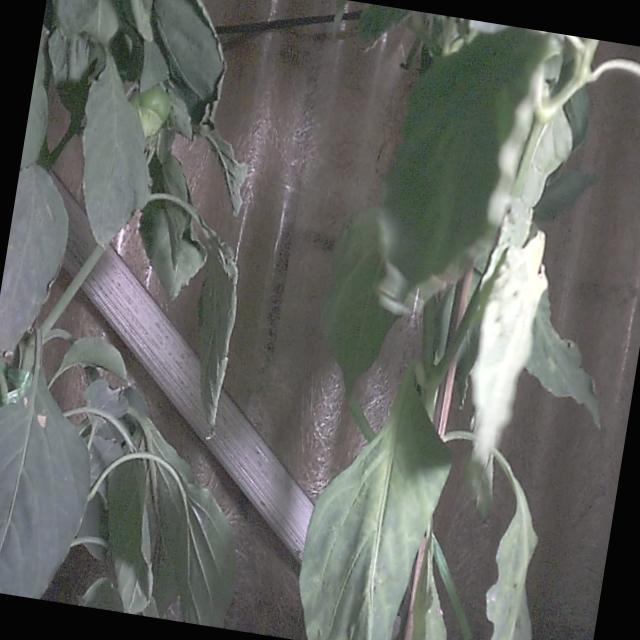Leaf: (300, 370, 450, 639), (0, 381, 89, 597), (322, 209, 395, 392), (0, 165, 68, 350), (83, 56, 149, 245), (526, 291, 600, 426), (199, 243, 238, 427)
